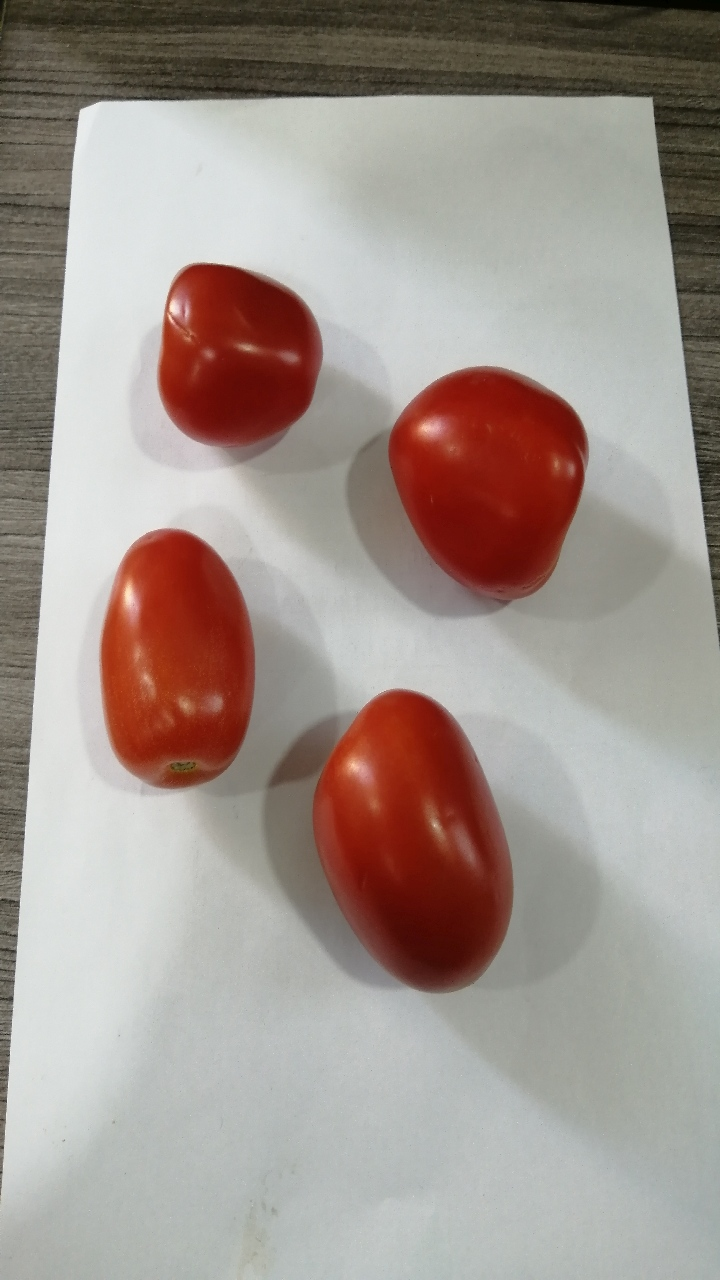tomateRojo: (283, 669, 515, 1014), (363, 346, 595, 609), (81, 511, 271, 800), (146, 242, 334, 463)
